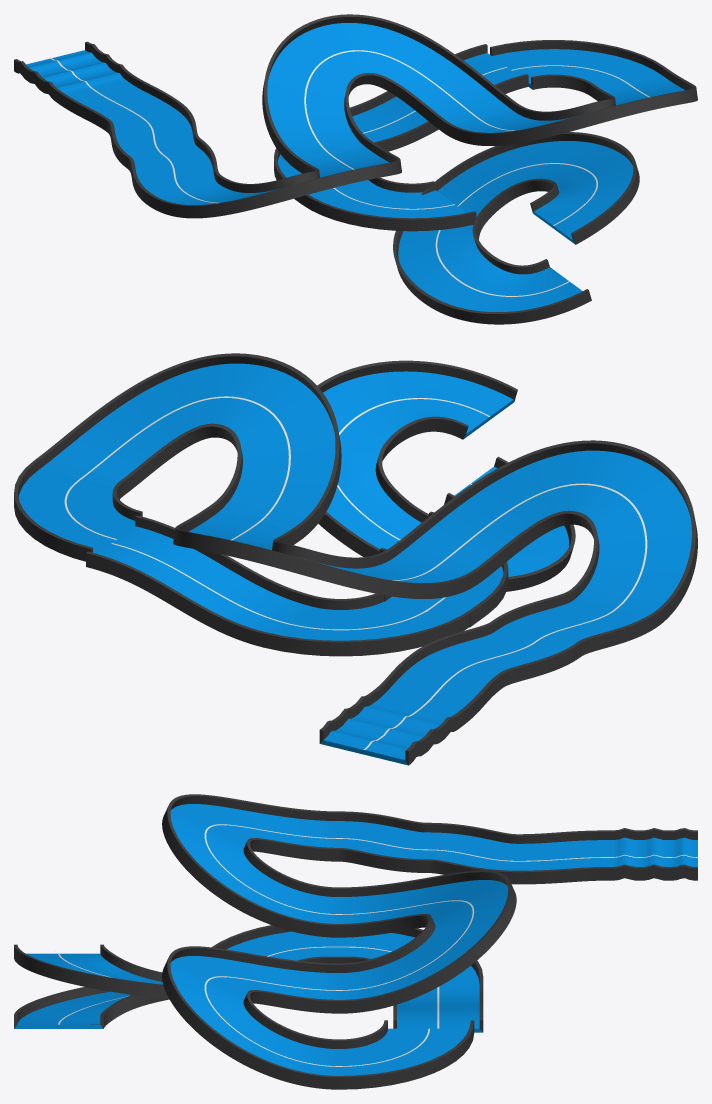
File: StylizedTrack_Hugo.fbx
3 renders of one model, top to bottom at view 1: azimuth 30°, elevation 25°; view 2: azimuth 150°, elevation 25°; view 3: azimuth 270°, elevation 25°, orthographic. The views are drawn at different scales.
Parts seen in each view (by area): view 1: ModularTrackSpiralRight__1_, ModularTrackBank__1_.001, ModularTrackBank__3_.001, ModularTrackBank__2_, ModularTrackCurveMedium__2_.001, ModularTrackCurveMedium__4_.001, ModularTrackRamp__1_.001, ModularTrackCantSmallLeft, ModularTrackBumpyStraight__2_, ModularTrackCantMediumRight__1_, ModularTrackCantMediumRight, LaneDivider_5.002 (+1 smaller); view 2: ModularTrackBank__3_.001, ModularTrackBank__2_, ModularTrackSpiralRight__1_, ModularTrackRamp__1_.001, ModularTrackBank__1_.001, ModularTrackCurveMedium__3_.001, ModularTrackCurveMedium__2_.001, ModularTrackCantMediumRight__1_, ModularTrackCantMediumRight, ModularTrackBumpyStraight__2_, ModularTrackCantSmallLeft, ModularTrackCurveMedium__4_.001 (+3 smaller); view 3: ModularTrackBank__3_.001, ModularTrackBank__1_.001, ModularTrackBank__2_, ModularTrackSpiralRight__1_, ModularTrackCurveMedium__2_.001, ModularTrackCantMediumRight, ModularTrackCantSmallLeft, ModularTrackBumpyStraight__2_, ModularTrackCantMediumRight__1_, ModularTrackRamp__1_.001, ModularTrackCurveMedium__4_.001, ModularTrackCurveMedium__3_.001 (+1 smaller).
Boxes of the visible parts, <box> form: ModularTrackSpiralRight__1_: <box>393,132,639,324</box>; ModularTrackBank__1_.001: <box>262,14,516,168</box>; ModularTrackBank__3_.001: <box>443,67,697,145</box>; ModularTrackBank__2_: <box>148,139,401,218</box>; ModularTrackCurveMedium__2_.001: <box>490,40,664,96</box>; ModularTrackCurveMedium__4_.001: <box>301,177,476,231</box>; ModularTrackRamp__1_.001: <box>349,44,528,151</box>; ModularTrackCantSmallLeft: <box>56,73,180,131</box>; ModularTrackBumpyStraight__2_: <box>14,41,130,101</box>; ModularTrackCantMediumRight__1_: <box>106,102,200,168</box>; ModularTrackCantMediumRight: <box>127,139,221,204</box>; LaneDivider_5.002: <box>435,163,597,296</box>; ModularTrackBank__3_.001: <box>35,353,341,538</box>; ModularTrackBank__2_: <box>391,440,697,625</box>; ModularTrackSpiralRight__1_: <box>317,360,575,591</box>; ModularTrackRamp__1_.001: <box>86,515,315,647</box>; ModularTrackBank__1_.001: <box>173,503,479,598</box>; ModularTrackCurveMedium__3_.001: <box>264,593,469,656</box>; ModularTrackCurveMedium__2_.001: <box>14,460,142,561</box>; ModularTrackCantMediumRight__1_: <box>414,621,580,687</box>; ModularTrackCantMediumRight: <box>492,590,658,656</box>; ModularTrackBumpyStraight__2_: <box>319,692,460,765</box>; ModularTrackCantSmallLeft: <box>371,652,502,727</box>; ModularTrackCurveMedium__4_.001: <box>379,511,508,613</box>; ModularTrackBank__3_.001: <box>162,946,339,1089</box>; ModularTrackBank__1_.001: <box>339,870,516,1013</box>; ModularTrackBank__2_: <box>162,794,339,937</box>; ModularTrackSpiralRight__1_: <box>14,944,169,1028</box>; ModularTrackCurveMedium__2_.001: <box>339,1020,474,1089</box>; ModularTrackCantMediumRight: <box>338,811,427,872</box>; ModularTrackCantSmallLeft: <box>518,830,607,884</box>; ModularTrackBumpyStraight__2_: <box>608,828,697,880</box>; ModularTrackCantMediumRight__1_: <box>428,822,517,884</box>; ModularTrackRamp__1_.001: <box>393,977,483,1032</box>; ModularTrackCurveMedium__4_.001: <box>212,925,326,962</box>; ModularTrackCurveMedium__3_.001: <box>348,928,483,985</box>.
Size of the model in its own units: 70 by 17.84 by 76.04.
